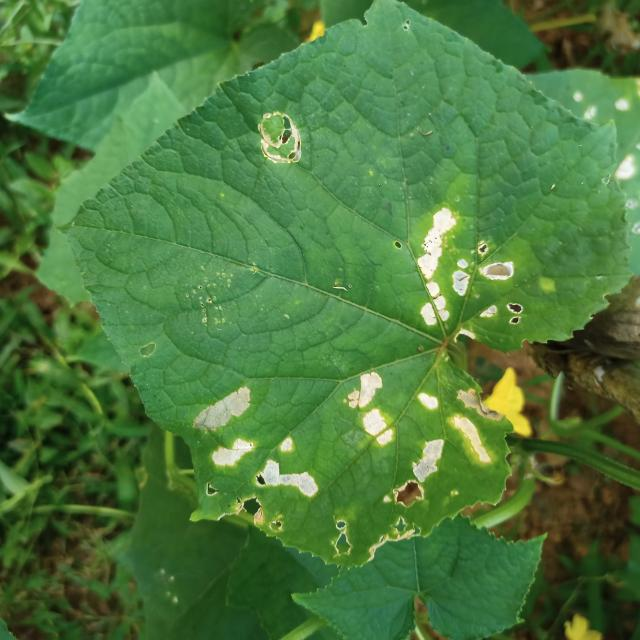disease_cucumber: (407, 207, 527, 347), (404, 383, 504, 493), (190, 384, 257, 476), (261, 432, 326, 502), (342, 368, 396, 452)
